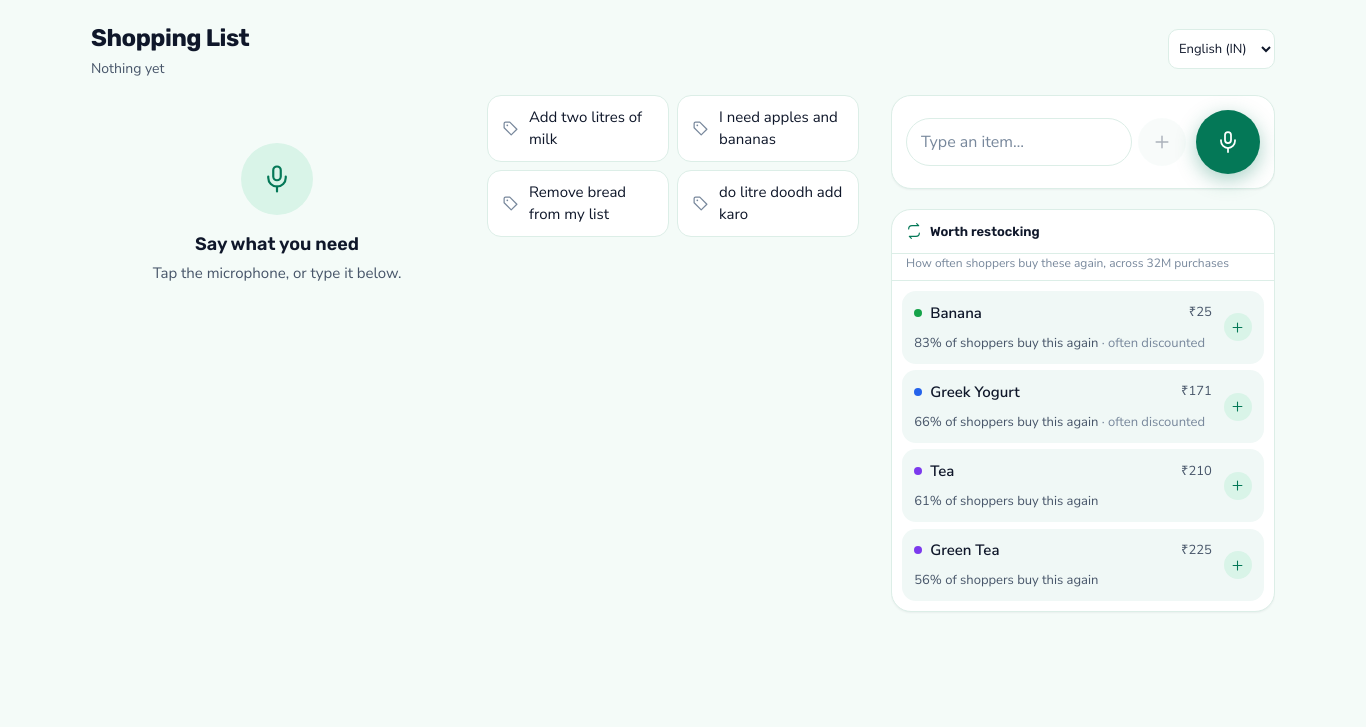
Test: voice search › says a price is unavailable rather than inventing one
Click the button named "Start listening" at x=1228, y=142, box [1196,110,1260,174]
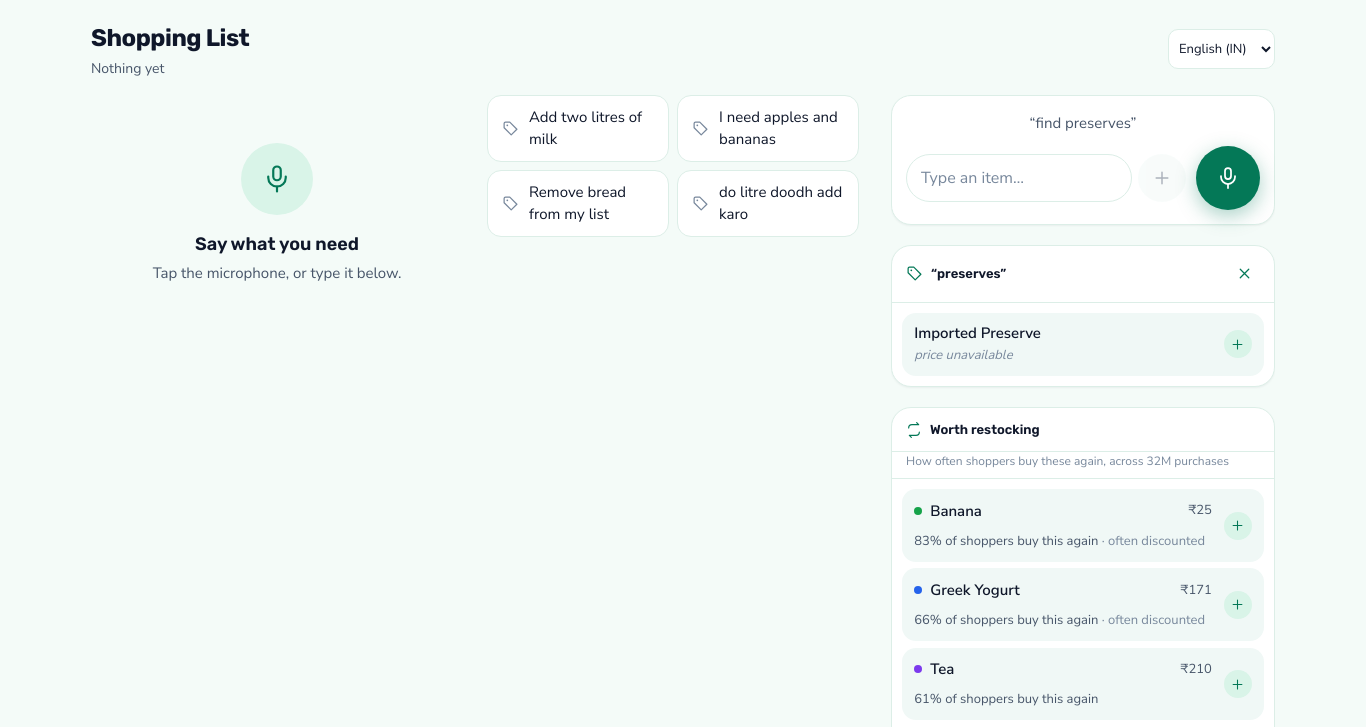
Now the text "price unavailable" is shown, box [914,346,1013,366]
